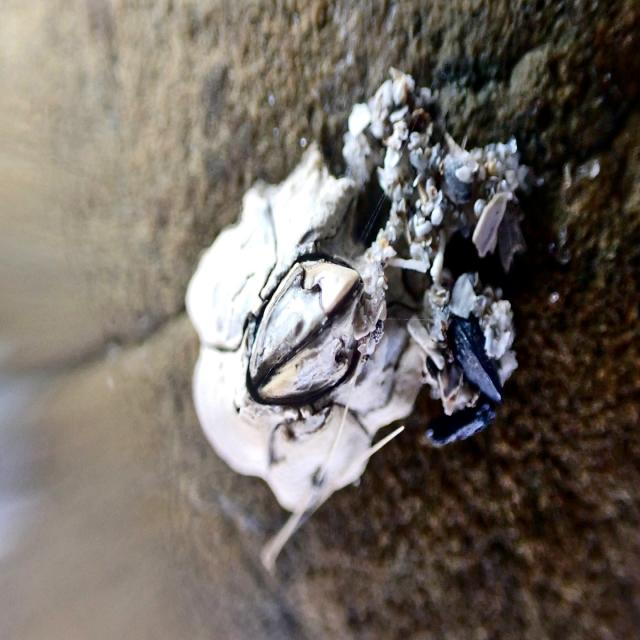barnacles: (164, 81, 523, 571)
